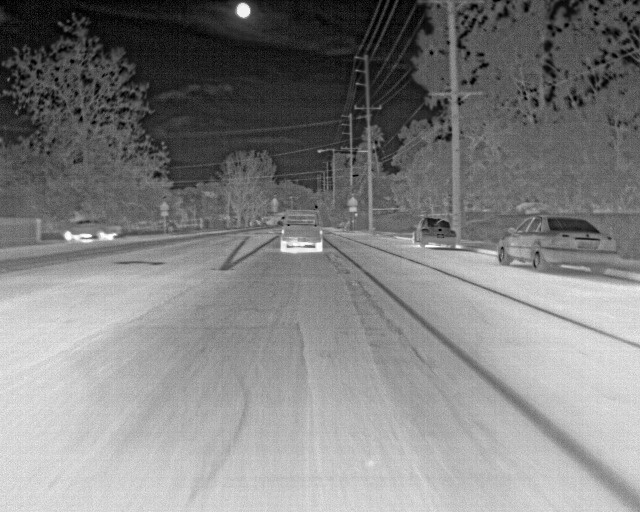vehicle: (500, 215, 616, 279), (281, 208, 326, 256), (64, 215, 121, 247), (415, 215, 456, 251)
